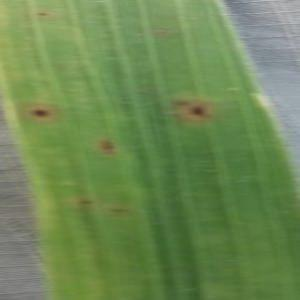0 BrownSpot: (23, 102, 58, 124), (92, 134, 122, 159), (181, 101, 212, 121), (107, 203, 134, 219), (168, 94, 192, 110), (75, 196, 98, 209), (32, 8, 53, 20)
